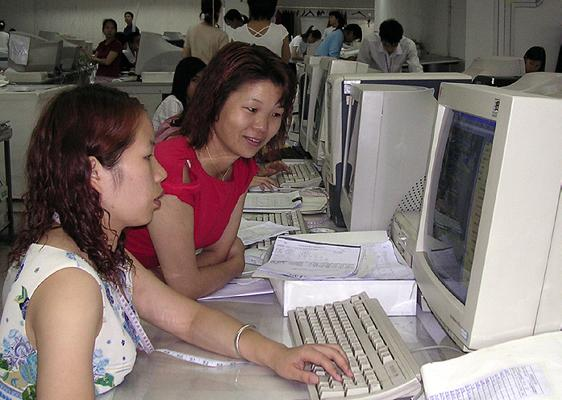person: (2, 84, 352, 400)
